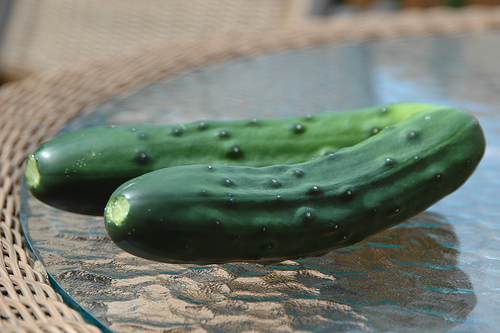cucumber: (104, 105, 489, 267), (23, 102, 435, 219)
